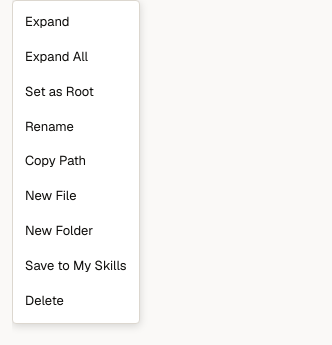
Scenario: ContextMenu › opens inline file-create inputs for a folder context action
The width and height of the screenshot is (332, 345).
Click the button with test id "new-file".
click(76, 197)  # box [13, 179, 139, 214]
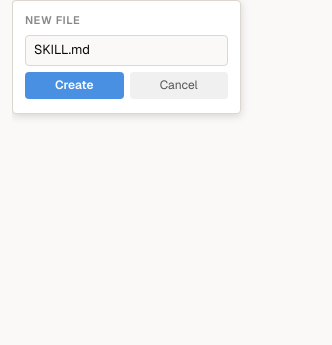
expect the field with test id "create-file-input" is shown: met, box [25, 35, 228, 66]
